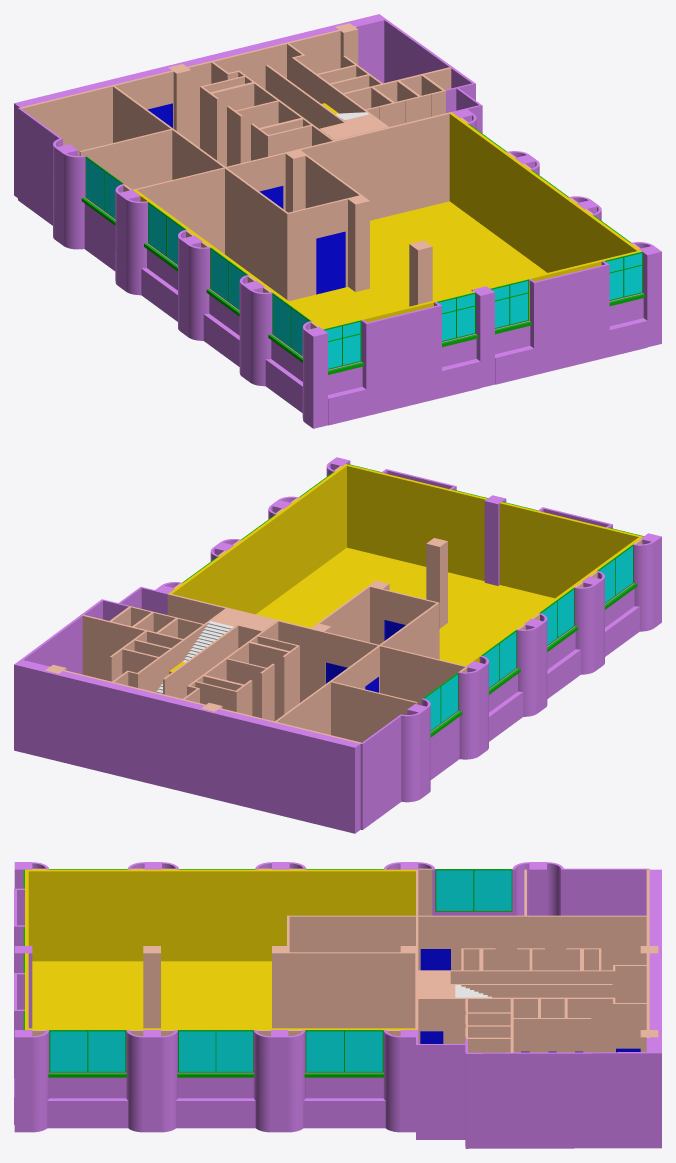
3 renders of one model, top to bottom at view 1: azimuth 30°, elevation 25°; view 2: azimuth 150°, elevation 25°; view 3: azimuth 270°, elevation 25°, orthographic. The views are drawn at different scales.
Visible parts, largest first — view 1: 物件_65; view 2: 物件_65; view 3: 物件_65.
Part boxes in pixels (box(x1,y1,x2,y2)): 物件_65: box(14, 14, 661, 428); 物件_65: box(14, 457, 661, 833); 物件_65: box(14, 862, 661, 1148).
Bounding box in the file's own units: 117 × 27.08 × 167.
